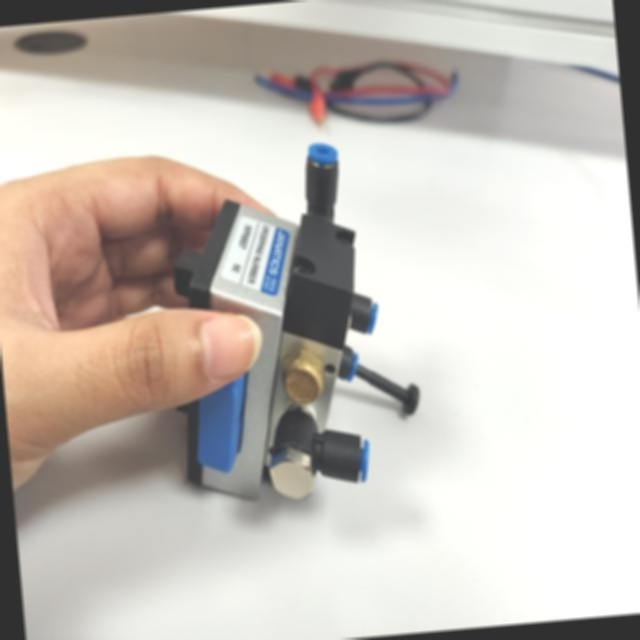5by2 DCV: (151, 115, 438, 520)
